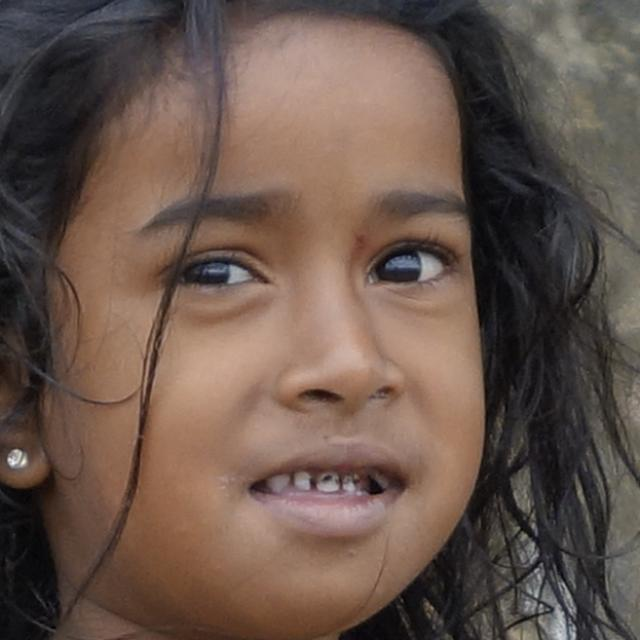Depress: (34, 22, 488, 633)
